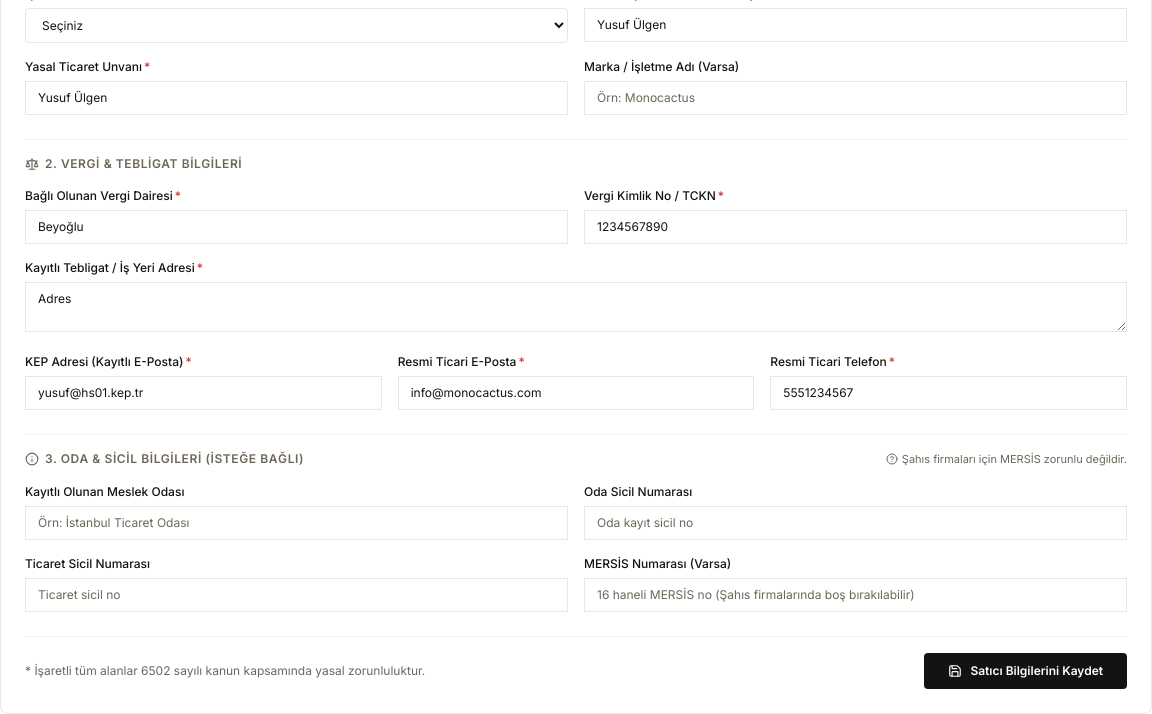
Scenario: Admin Settings Tab Components (Phase 3.10) › AdminSellerLegalTab › handles seller legal update error rejection
(page scrolled)
Click the button "Satıcı Bilgilerini Kaydet" at [1026, 670], box x1=924 y1=652 x2=1127 y2=688
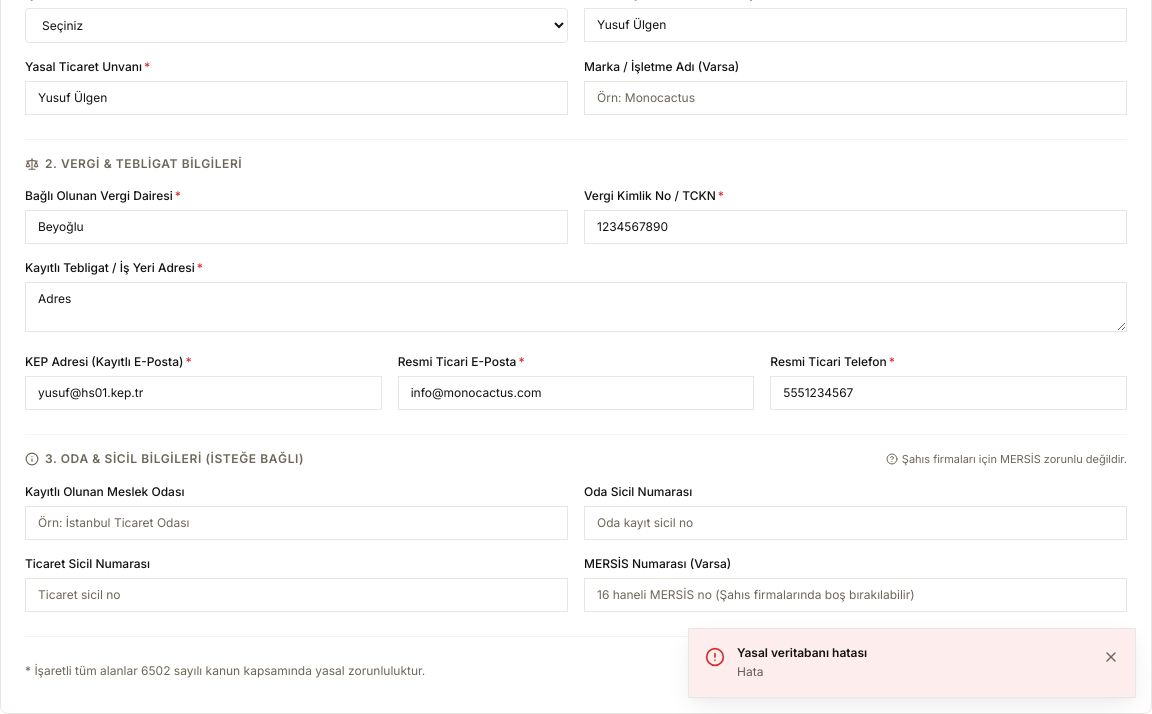
expect the heading "Yasal veritabanı hatası" is shown: met, box x1=737 y1=644 x2=867 y2=660
